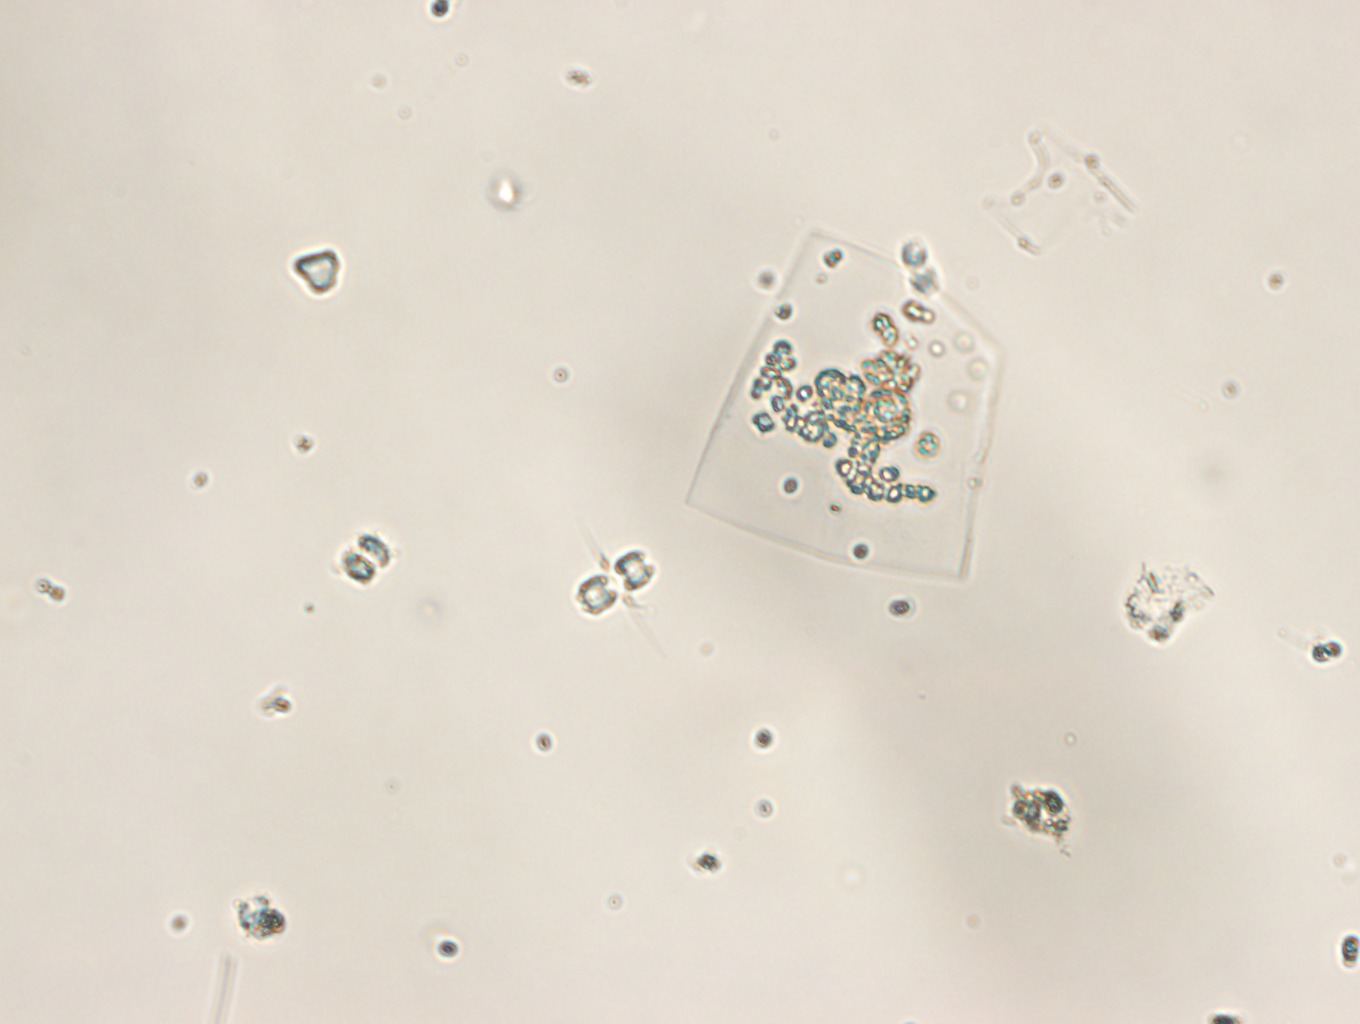helicotheca: (686, 229, 1000, 581)
